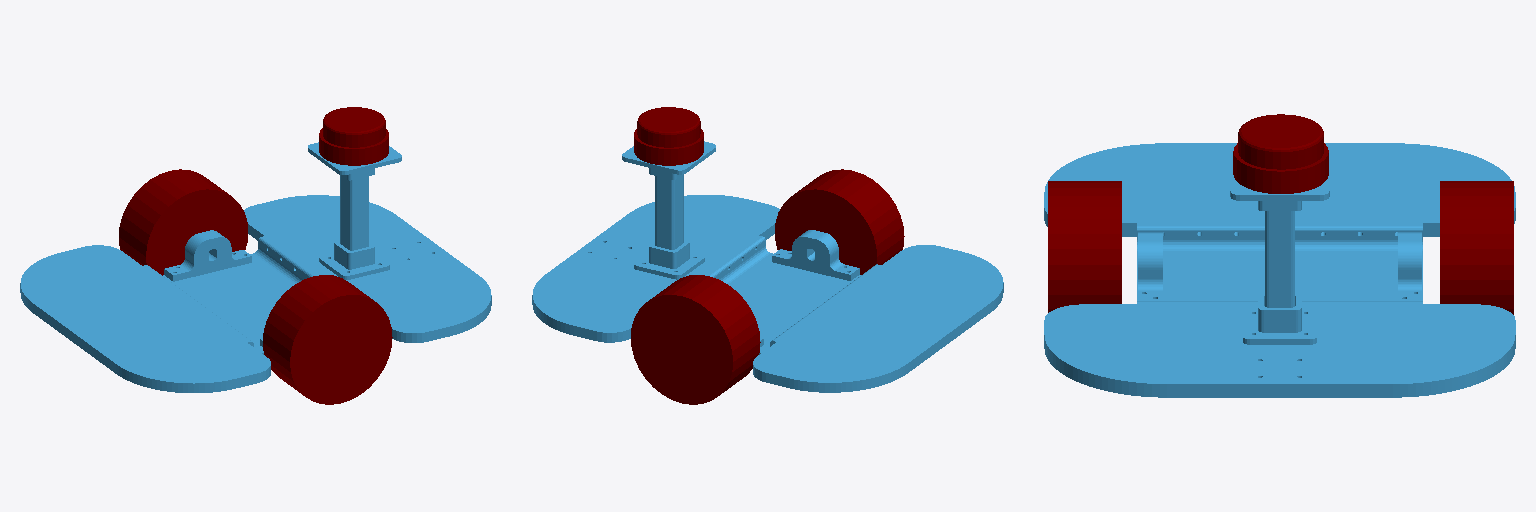
robot.urdf — robot:
<?xml version="1.0"?>	
<robot name="robot">

  <!--BASE FOOTPRINT-->
  <link name="base_footprint" />

  <!--===== Defining all colours here =====-->
  <material name="Orange">
    <color rgba="0.5 0.2 0.0 1" />
  </material>
  <material name="Yellow">
    <color rgba="0.5 0.5 0.0 1" />
  </material>
  <material name="Red">
    <color rgba="0.5 0.0 0.0 1" />
  </material>
  <material name="Blue">
    <color rgba="0.0 0.0 0.4 1" />
  </material>
  <material name="Green">
    <color rgba="0.0 0.4 0.0 1" />
  </material>


  <!--========================================== BASE LINK ==========================================-->
  <link name="base_link">
    <inertial>
      <origin xyz="0 0 0.033" rpy="0 0 0"/>
      <mass value="8.2573504e-01"/>
      <inertia ixx="2.2124416e-03" ixy="-1.2294101e-05" ixz="3.4938785e-05"
               iyy="2.1193702e-03" iyz="-5.0120904e-06"
               izz="2.0064271e-03" />
    </inertial>
    <visual>
      <origin rpy="0 0 0" xyz="0 0 0.033"/>
      <geometry>
        <mesh filename="package://robot/urdf/meshes/base.stl" scale="0.1 0.1 0.1"/>
      </geometry>
      <material name="White"/>
    </visual>
    <collision>
      <origin rpy="0 0 0" xyz="0 0 0.033"/>
      <geometry>
        <mesh filename="package://robot/urdf/meshes/base.stl" scale="0.1 0.1 0.1"/>
      </geometry>
    </collision>
  </link>


  <!--========================================== BASE JOINT ==========================================-->
  <joint name="base_joint" type="fixed">
    <origin xyz="0 0 0.0335" rpy="0 0 0" />
    <parent link="base_footprint" />
    <child link="base_link" />
    <axis xyz="0 0 0" />
  </joint>


 

  


  <!--========================================== LEFT WHEEL LINK ==========================================-->
  <link name="left_wheel_link">
    <inertial>
      <origin xyz="0 0 0" />
      <mass value="2.8498940e-02" />
      <inertia ixx="1.1175580e-05" ixy="-4.2369783e-11" ixz="-5.9381719e-09"
               iyy="1.1192413e-05" iyz="-1.4400107e-11"
               izz="2.0712558e-05" />
      </inertial>
      <visual>
        <origin xyz="0 0 0" rpy="0 0 0" />
        <geometry>
          <cylinder length="0.06" radius="0.065" />
        </geometry>
        <material name="Red" />
      </visual>
      <collision>
        <origin xyz="0 0 0" rpy="0 0 0" />
        <geometry>
          <cylinder length="0.06" radius="0.065" />
        </geometry>
      </collision>
  </link>

  <!--========================================== LEFT WHEEL JOINT ==========================================-->
  <joint name="left_wheel_joint" type="continuous">
    <origin rpy="1.571 0.0 0" xyz="0.0 0.158075 0.065"/>
    <parent link="base_link"/>
    <child link="left_wheel_link"/>
    <axis xyz="0 0 -1"/>
    <limit effort="100.0" velocity="100.0"/>
    <joint_properties damping="0.0" fiction="0.0"/>
  </joint>

  <transmission name="left_wheel_trans" type="SimpleTransmission">
    <type>transmission_interface/SimpleTransmission</type>
    <actuator name="left_wheel_motor">
      <mechanicalReduction>1</mechanicalReduction>
    </actuator>
    <joint name="left_wheel_joint">
      <hardwareInterface>VelocityJointInterface</hardwareInterface>
    </joint>
  </transmission>


<!--========================================== RIGHT WHEEL LINK ==========================================-->
<link name="right_wheel_link">
  <inertial>
    <origin xyz="0 0 0" />
    <mass value="2.8498940e-02" />
    <inertia ixx="1.1175580e-05" ixy="-4.2369783e-11" ixz="-5.9381719e-09"
             iyy="1.1192413e-05" iyz="-1.4400107e-11"
             izz="2.0712558e-05" />
    </inertial>
    <visual>
      <origin xyz="0 0 0" rpy="0 0 0" />
      <geometry>
        <cylinder length="0.06" radius="0.065" />
      </geometry>
      <material name="Red" />
    </visual>
    <collision>
      <origin xyz="0 0 0" rpy="0 0 0" />
      <geometry>
        <cylinder length="0.06" radius="0.065" />
      </geometry>
    </collision>
</link>

<!--========================================== RIGHT WHEEL JOINT ==========================================-->
<joint name="right_wheel_joint" type="continuous">
  <origin rpy="-1.571 0.0 0" xyz="0.0 -0.158075 0.065"/>
  <parent link="base_link"/>
  <child link="right_wheel_link"/>
  <axis xyz="0 0 1"/>
  <limit effort="100.0" velocity="100.0"/>
  <joint_properties damping="0.0" fiction="0.0"/>
</joint>

<transmission name="right_wheel_trans" type="SimpleTransmission">
  <type>transmission_interface/SimpleTransmission</type>
  <actuator name="right_wheel_motor">
    <mechanicalReduction>1</mechanicalReduction>
  </actuator>
  <joint name="right_wheel_joint">
    <hardwareInterface>VelocityJointInterface</hardwareInterface>
  </joint>
</transmission>



  <!--=============================================== FRONT CASTOR WHEEL LINK ===============================================-->
  <link name="front_castor_wheel_link">
    <link name="front_castor_wheel_link">
      <collision>
        <origin xyz="0 0.025 0" rpy="0 0 0"/>
        <geometry>
          <box size="0.030 0.009 0.020"/>
        </geometry>
      </collision>
  
      <inertial>
        <origin xyz="0 0 0" />
        <mass value="0.005" />
        <inertia ixx="0.001" ixy="0.0" ixz="0.0"
                 iyy="0.001" iyz="0.0"
                 izz="0.001" />
      </inertial>
    </link>
  </link>

  <!--============================================ FRONT CASTOR WHEEL JOINT ============================================-->
  <joint name="front_castor_wheel_joint" type="fixed">
    <origin rpy="0.0 0.0 0.0" xyz="0.2 0.0 0.0252"/>
    <parent link="base_link"/>
    <child link="front_castor_wheel_link"/>
    <axis xyz="0 0 0"/>
  </joint>


  <!--=============================================== REAR CASTOR WHEEL LINK ===============================================-->
  <link name="rear_castor_wheel_link">
    <collision>
      <origin xyz="0 0.025 0" rpy="0 0 0"/>
      <geometry>
        <box size="0.030 0.009 0.020"/>
      </geometry>
    </collision>

    <inertial>
      <origin xyz="0 0 0" />
      <mass value="0.005" />
      <inertia ixx="0.001" ixy="0.0" ixz="0.0"
               iyy="0.001" iyz="0.0"
               izz="0.001" />
    </inertial>
  </link>

  <!--============================================ REAR CASTOR WHEEL JOINT ============================================-->
  <joint name="rear_castor_wheel_joint" type="fixed">
    <origin rpy="0.0 0.0 0.0" xyz="-0.2 0.0 0.0252"/>
    <parent link="base_link"/>
    <child link="rear_castor_wheel_link"/>
    <axis xyz="0 0 0"/>
  </joint>


  <!--========================================== LASER LINK ==========================================-->
  <link name="laser_link">
    <inertial>
      <mass value="0.114" />
      <origin xyz="0 0 0" />
      <inertia ixx="0.001" ixy="0.0" ixz="0.0"
               iyy="0.001" iyz="0.0"
               izz="0.001" />
    </inertial>
    <visual>
      <origin rpy="0 0 0" xyz="0 0 0"/>
      <geometry>
        <mesh filename="package://robot/urdf/meshes/ridar.stl" scale="0.1 0.1 0.1"/>
      </geometry>
      <material name="Red"/>
    </visual>
    <collision>
      <origin rpy="0 0 0" xyz="0 0 0"/>
      <geometry>
        <mesh filename="package://robot/urdf/meshes/ridar.stl" scale="0.1 0.1 0.1"/>
      </geometry>
    </collision>
  </link>

  <!--========================================== LASER JOINT ==========================================-->
  <joint name="laser_joint" type="fixed">
    <origin rpy="0.0 0.0 0" xyz="0.125 0.0 0.2"/>
    <parent link="base_link"/>
    <child link="laser_link"/>
    <axis xyz="0 0 0"/>
  </joint>


</robot>

--- What the picture shows (computed from the rendered views, not written in the file) ---
The picture shows the robot from 3 angles, left to right: view 1: azimuth 30°, elevation 25°; view 2: azimuth 150°, elevation 25°; view 3: azimuth 270°, elevation 25°; orthographic projection.
Model robot with 7 links and 6 joints (2 continuous, 4 fixed), rooted at base_footprint, posed every joint at zero.
Links seen in each view (by area): view 1: base_link, right_wheel_link, left_wheel_link, laser_link; view 2: base_link, left_wheel_link, right_wheel_link, laser_link; view 3: base_link, left_wheel_link, right_wheel_link, laser_link.
Boxes of the visible links, left/top/right/bottom form: base_link: left=20, top=142, right=491, bottom=392; right_wheel_link: left=263, top=275, right=392, bottom=404; left_wheel_link: left=119, top=169, right=247, bottom=275; laser_link: left=319, top=107, right=388, bottom=165; base_link: left=532, top=141, right=1003, bottom=392; left_wheel_link: left=631, top=275, right=760, bottom=404; right_wheel_link: left=775, top=169, right=904, bottom=274; laser_link: left=634, top=107, right=703, bottom=165; base_link: left=1044, top=143, right=1515, bottom=397; left_wheel_link: left=1440, top=181, right=1513, bottom=314; right_wheel_link: left=1048, top=181, right=1121, bottom=312; laser_link: left=1233, top=114, right=1328, bottom=193.
Size in the robot's own frame: 0.46 by 0.38 by 0.2389 metres.
Meshes: 2 distinct files referenced, 2 mesh visuals loaded (2 binary STL).